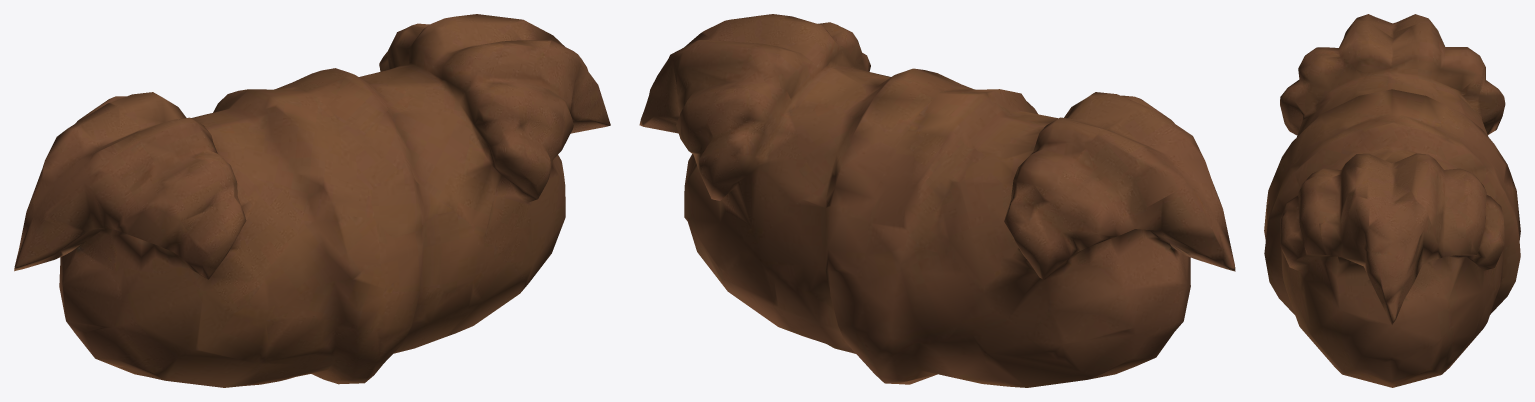
File: pipsSunseed.b52c5a99.glb
3 views of the same model, side by side, from view 1: azimuth 30°, elevation 25°; view 2: azimuth 150°, elevation 25°; view 3: azimuth 270°, elevation 25° (orthographic). The views are drawn at different scales.
Bounding box in the file's own units: 1.9 × 0.9043 × 0.8375.
1 material, 1 textured.
